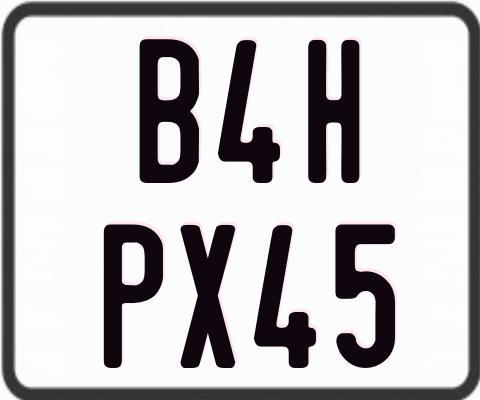4: (218, 40, 281, 189), (251, 223, 313, 369)
5: (334, 223, 395, 372)
B: (138, 38, 197, 186)
H: (308, 40, 364, 189)
P: (104, 224, 169, 370)
X: (181, 224, 238, 370)
